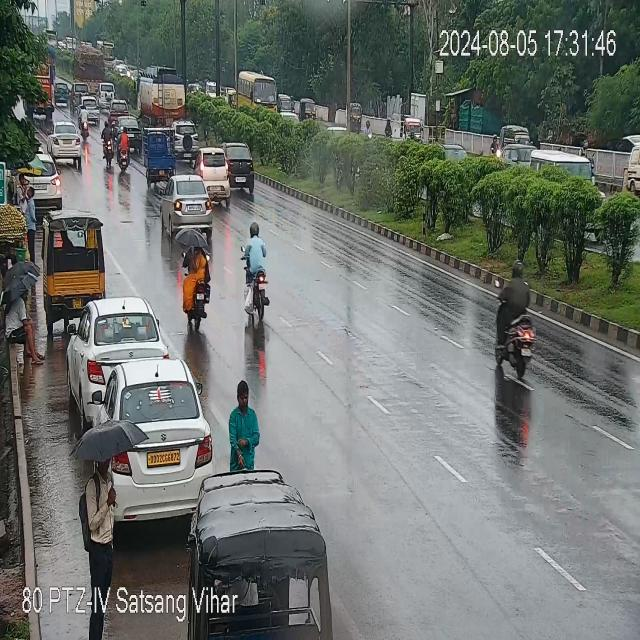2-wheelers: (492, 267, 538, 383), (181, 226, 215, 329), (241, 227, 277, 323), (177, 122, 202, 160), (116, 125, 131, 173), (102, 120, 116, 168), (77, 113, 89, 141)
auto: (41, 213, 108, 315), (142, 125, 176, 185), (196, 146, 231, 203), (496, 124, 533, 160), (627, 137, 640, 205), (300, 97, 318, 121), (351, 102, 361, 136)
bus: (238, 66, 276, 117)
car: (88, 367, 212, 529), (68, 298, 167, 397), (161, 178, 217, 234), (13, 153, 65, 206), (45, 124, 84, 164), (225, 152, 253, 196), (81, 100, 103, 124), (72, 82, 90, 100)
pedestrian: (80, 424, 139, 533), (3, 282, 48, 375), (228, 382, 262, 473), (20, 184, 41, 256)
truck: (136, 76, 187, 123)
